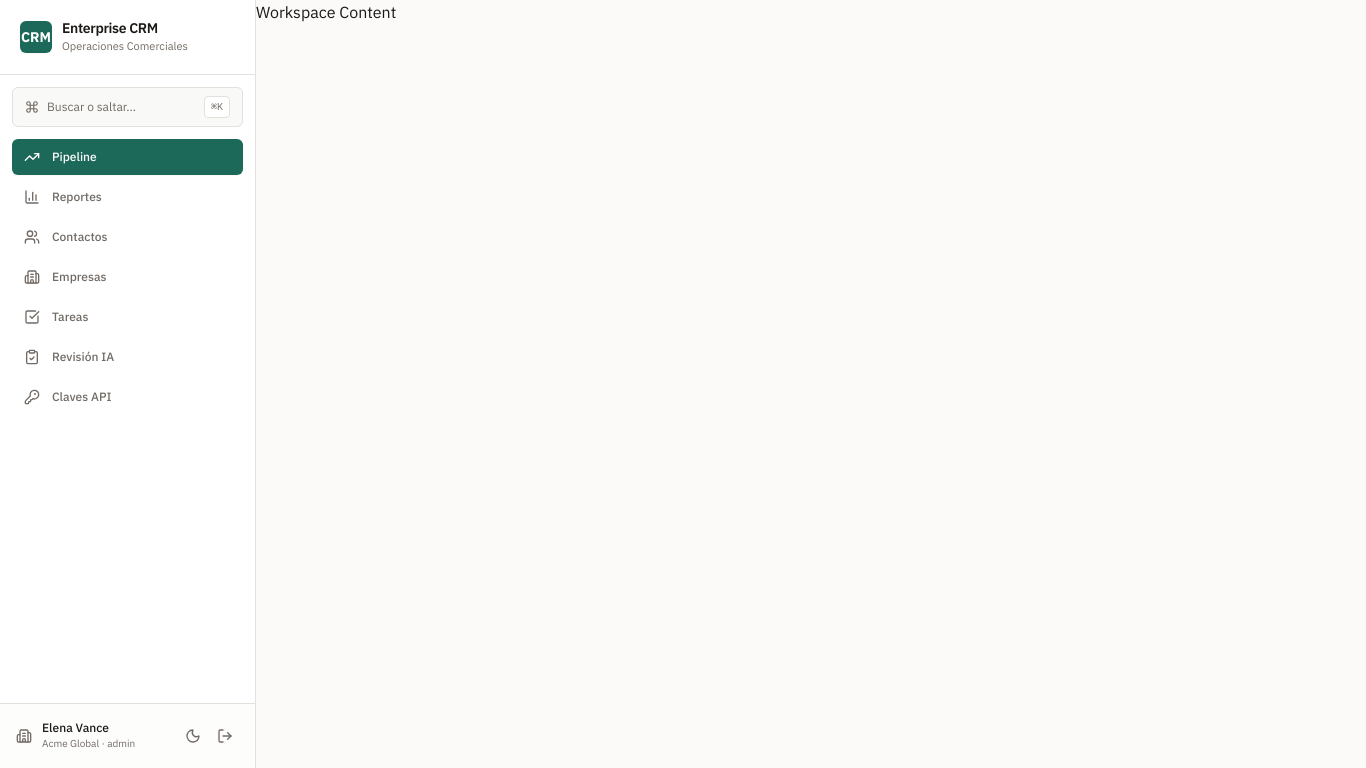
AppShell › renders tenant sidebar, opens command palette, and handles logout
Later steps or results of the test are not shown.
expect the text "Workspace Content" is shown: met, box [256,2,396,22]
expect the text "Elena Vance" is shown: met, box [42,720,109,735]
What coordinates should you click on to do the following:
click the button "Buscar o saltar... ⌘K"
I would click on:
 (128, 107)
Its box is [12,87,243,127].
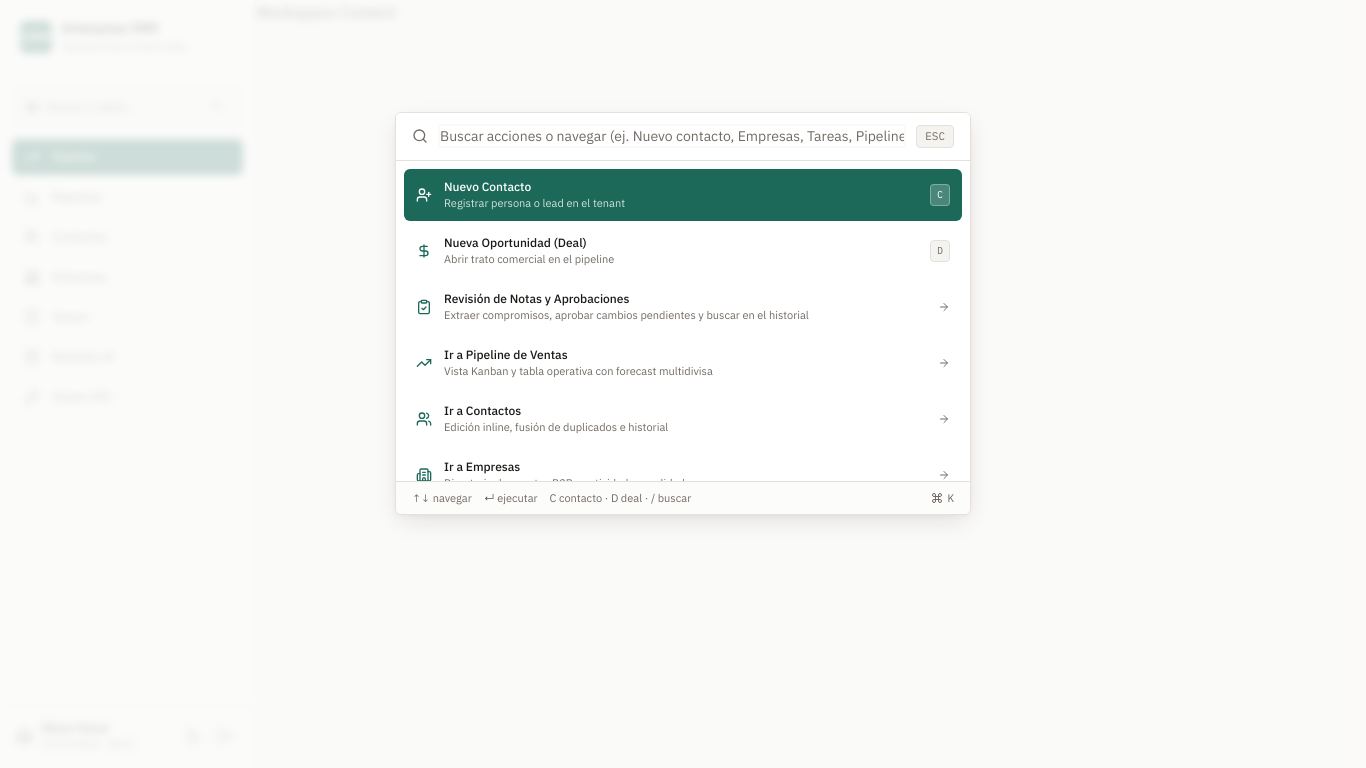
expect the dialog is shown: met
